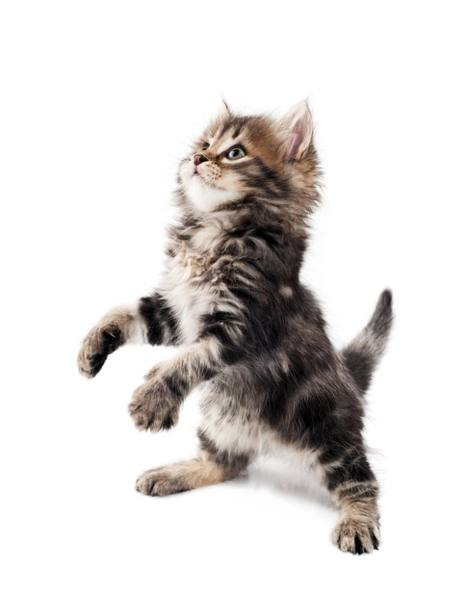cat: (144, 65, 345, 249)
